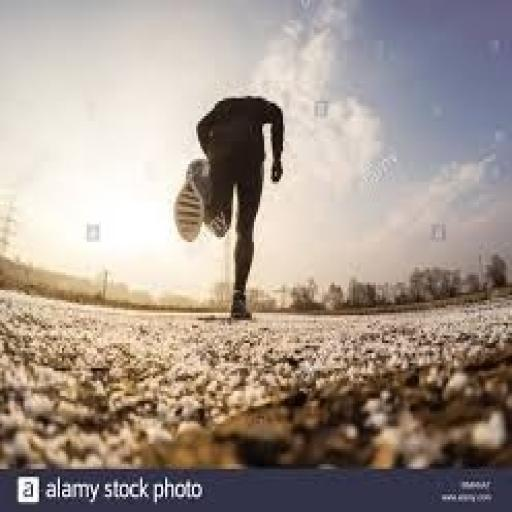running: (173, 91, 289, 323)
